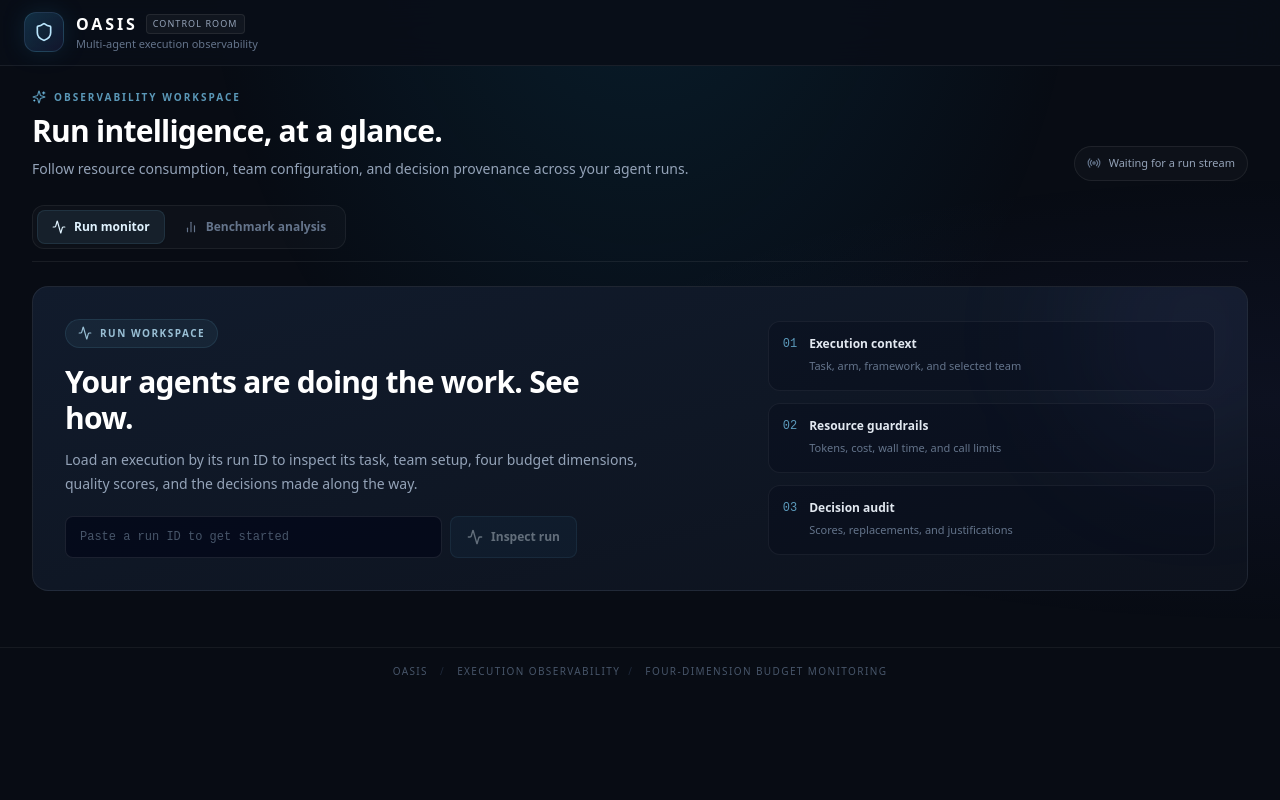
Test case: OASIS React Dashboard (FR-25) › shows run load errors without substituting demo data
Type "01JRUN00000000000000000001" into the field named "Run ID to inspect" at (254, 536), box [65,516,442,558]
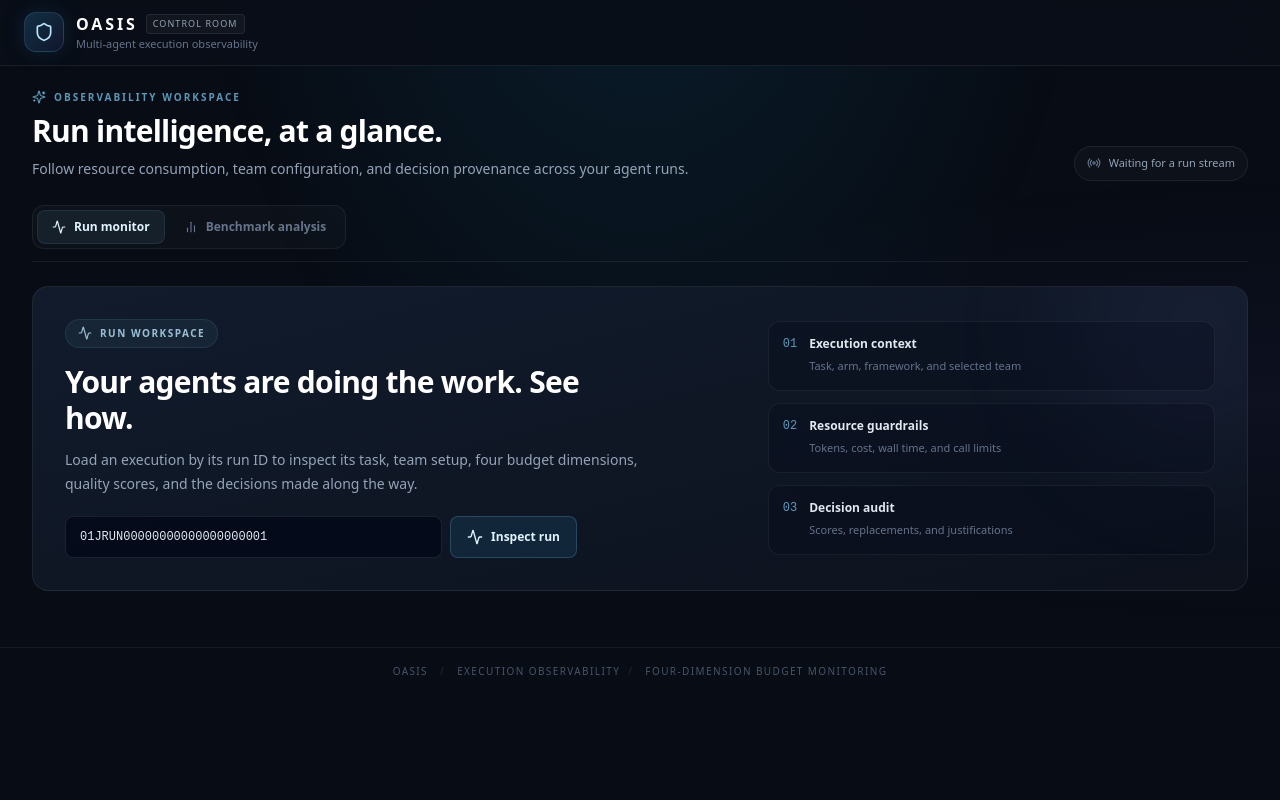
Click the button "Inspect run" at (514, 536), box [450,516,577,558]
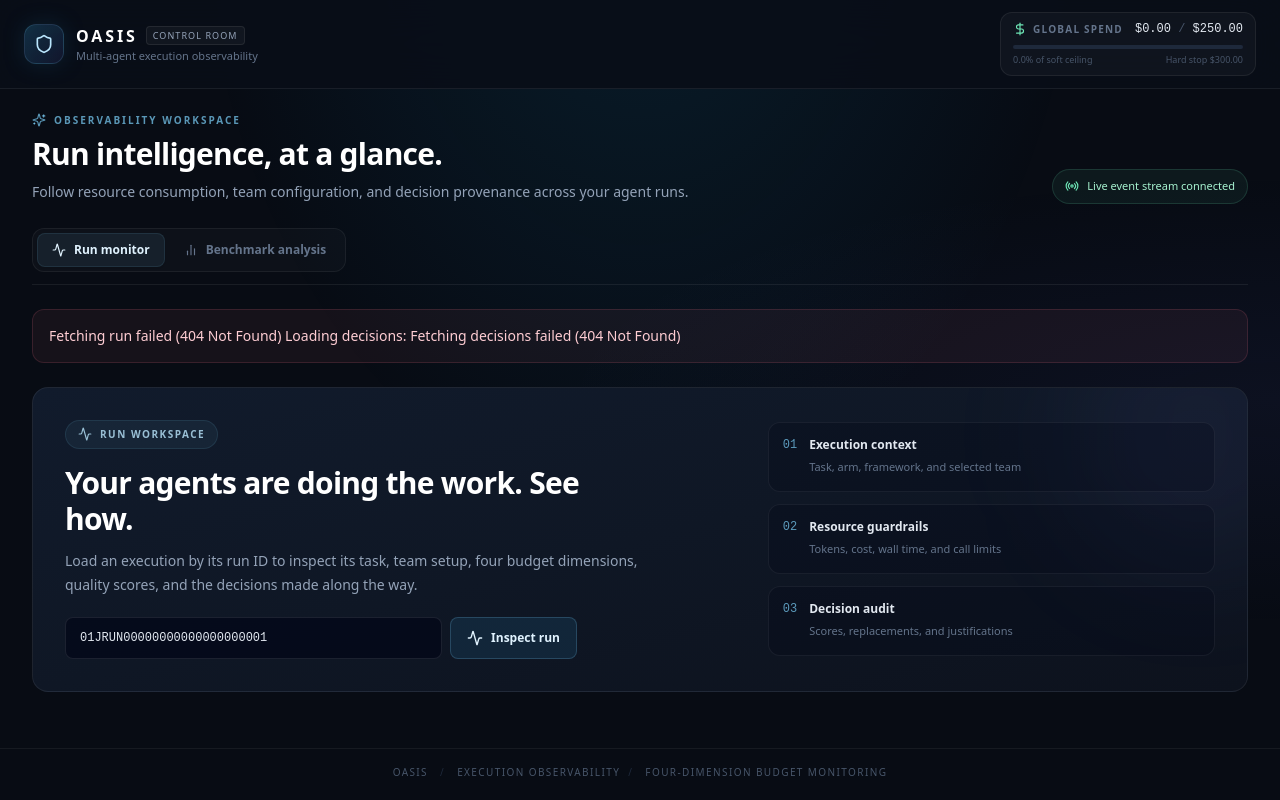
Now the message shows "Fetching run failed (404", box [49,326,680,344]
